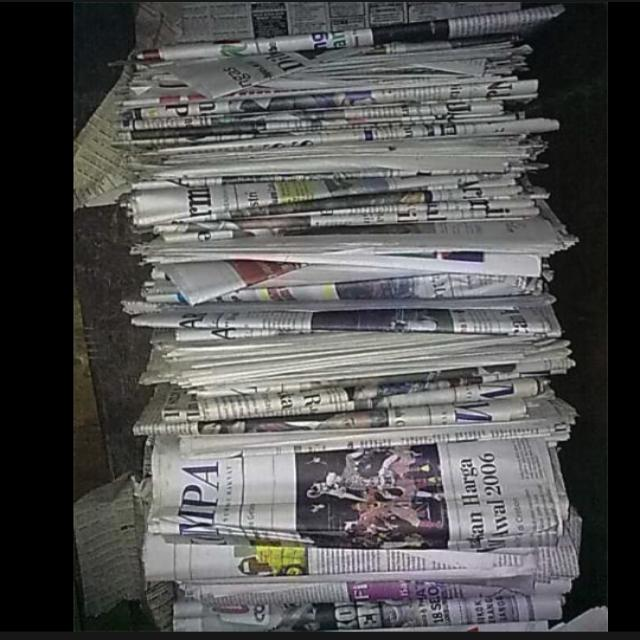Koran: (76, 0, 587, 633)
